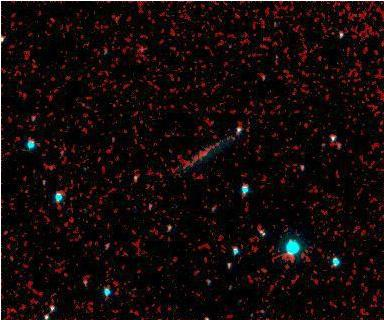star: (160, 245, 190, 275)
